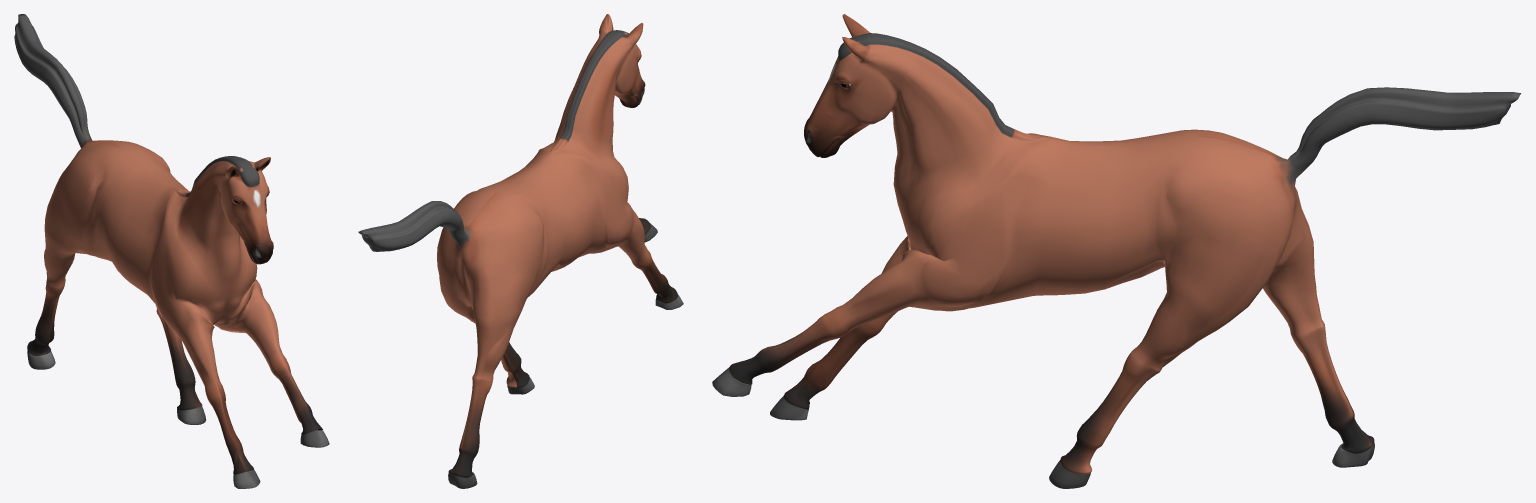
The model's file is horse_obj_10.obj.
3 renders of one model, left to right at view 1: azimuth 30°, elevation 25°; view 2: azimuth 150°, elevation 25°; view 3: azimuth 270°, elevation 25°, orthographic. The views are drawn at different scales.
Visible parts, largest first — view 1: Figure_1; view 2: Figure_1; view 3: Figure_1.
Boxes of the visible parts, left/top/right/bottom form: Figure_1: left=14, top=14, right=329, bottom=488; Figure_1: left=358, top=14, right=683, bottom=488; Figure_1: left=712, top=14, right=1520, bottom=488.
Size of the model in its own units: 0.2421 by 0.829 by 1.34.
Materials: 7 (7 with a texture image).
